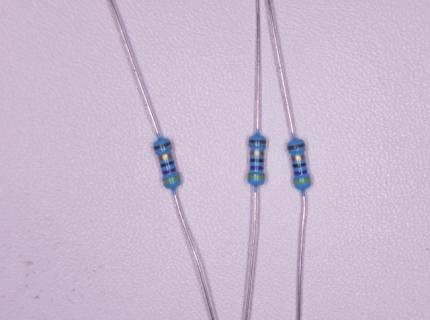Gold band: (158, 153, 172, 162), (292, 155, 305, 161), (250, 151, 263, 155)
Violet band: (162, 167, 176, 175), (294, 170, 307, 175), (250, 166, 263, 170)
Yellow band: (163, 175, 180, 184), (294, 178, 310, 184), (248, 175, 264, 179)
